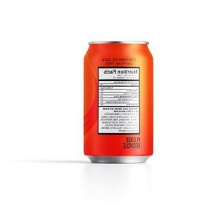can: (78, 36, 163, 172)
